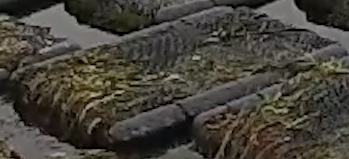bag: (10, 5, 347, 146)
